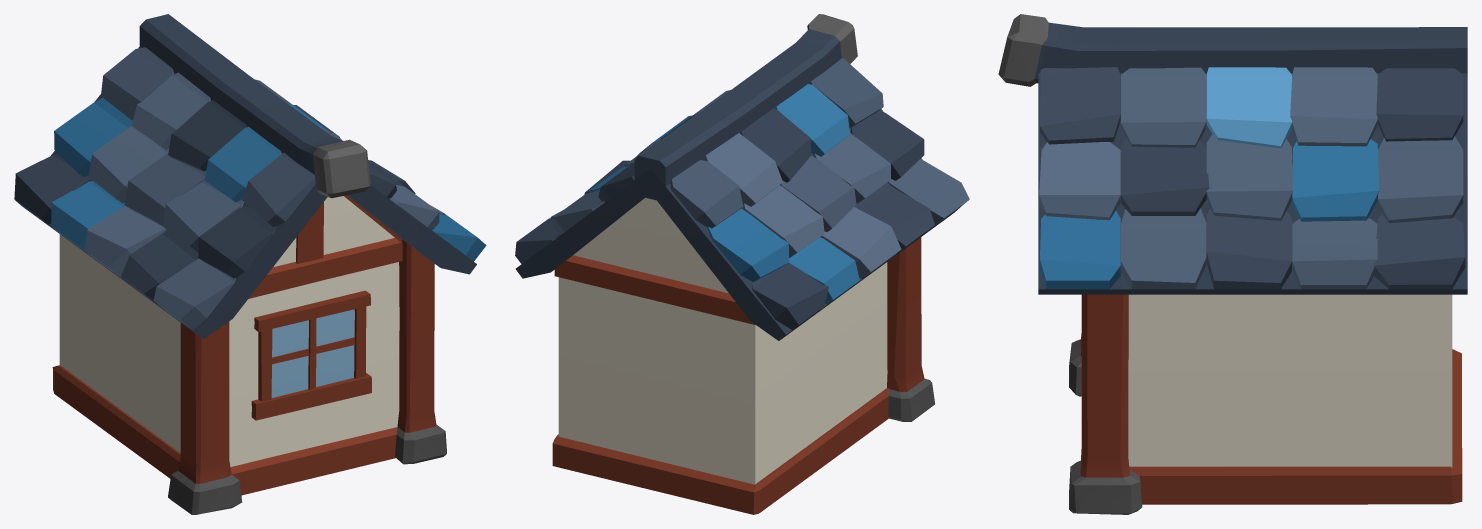
File: House_1Floor_Side_F.fbx
3 views of the same model, side by side, from view 1: azimuth 30°, elevation 25°; view 2: azimuth 150°, elevation 25°; view 3: azimuth 270°, elevation 25° (orthographic). The views are drawn at different scales.
Visible parts, largest first — view 1: House_1Floor_Side_F; view 2: House_1Floor_Side_F; view 3: House_1Floor_Side_F.
Boxes of the visible parts, left/top/right/bottom form: House_1Floor_Side_F: left=14, top=14, right=486, bottom=514; House_1Floor_Side_F: left=515, top=14, right=969, bottom=514; House_1Floor_Side_F: left=998, top=14, right=1467, bottom=514.
Bounding box in the file's own units: 259 × 288 × 290.
